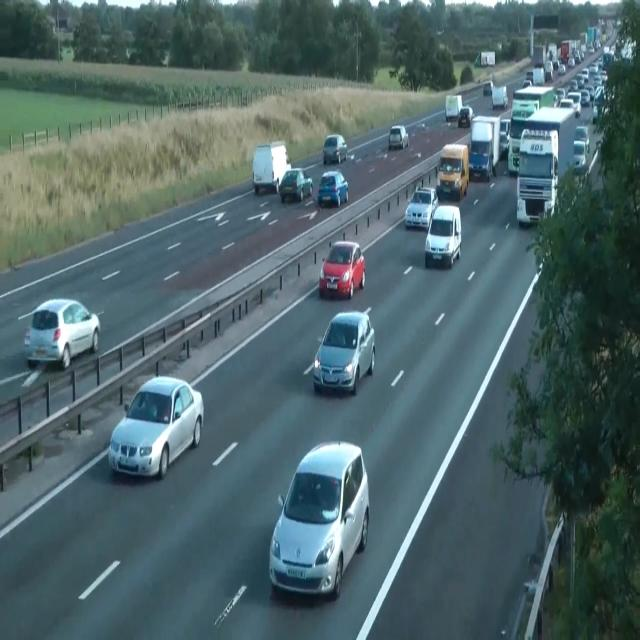bus: (268, 439, 369, 600), (108, 374, 204, 480), (24, 298, 100, 370), (319, 240, 365, 299), (404, 186, 438, 229), (278, 167, 313, 203), (317, 170, 349, 207), (323, 134, 347, 164), (387, 124, 409, 150), (574, 125, 590, 153), (573, 140, 586, 172), (457, 106, 473, 127), (500, 119, 510, 138), (483, 81, 493, 96), (522, 78, 532, 87), (558, 64, 566, 75), (567, 57, 575, 67)
jeep: (313, 308, 375, 394), (424, 204, 462, 268)
minibus: (516, 105, 576, 226), (507, 100, 539, 176), (252, 140, 292, 196), (468, 115, 500, 181), (437, 142, 469, 200), (560, 39, 582, 65), (444, 93, 462, 122), (499, 118, 511, 158), (492, 86, 508, 110), (473, 50, 495, 66), (587, 26, 601, 47), (547, 44, 557, 68)
